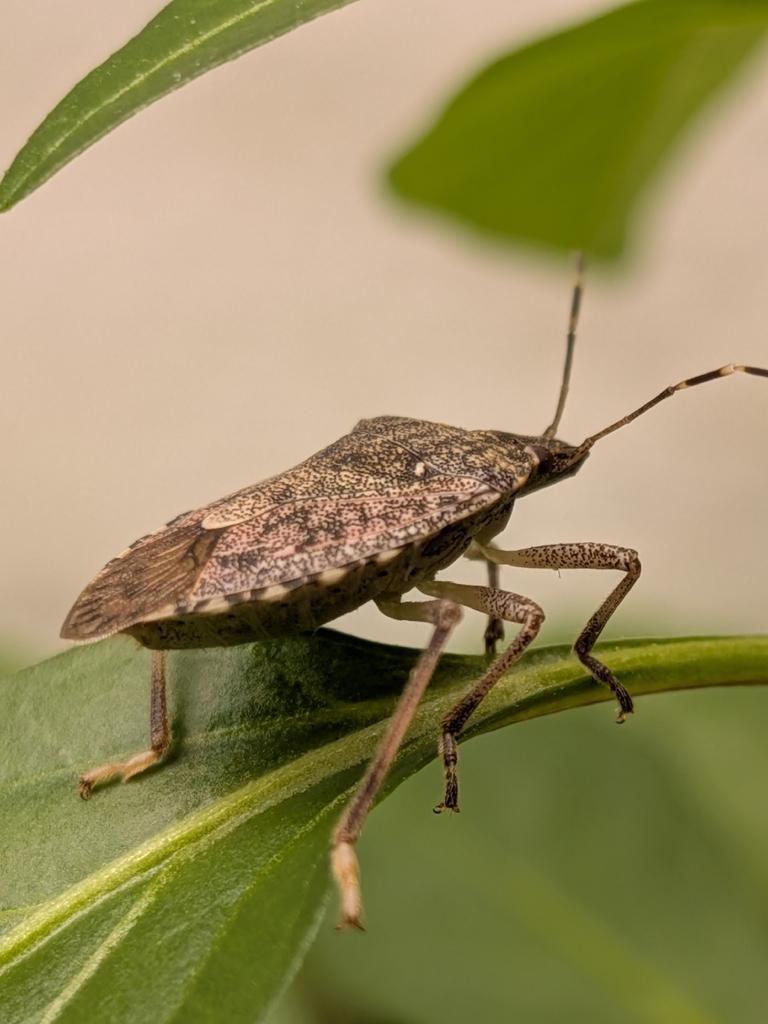stink_bugs: (0, 161, 768, 1024)
